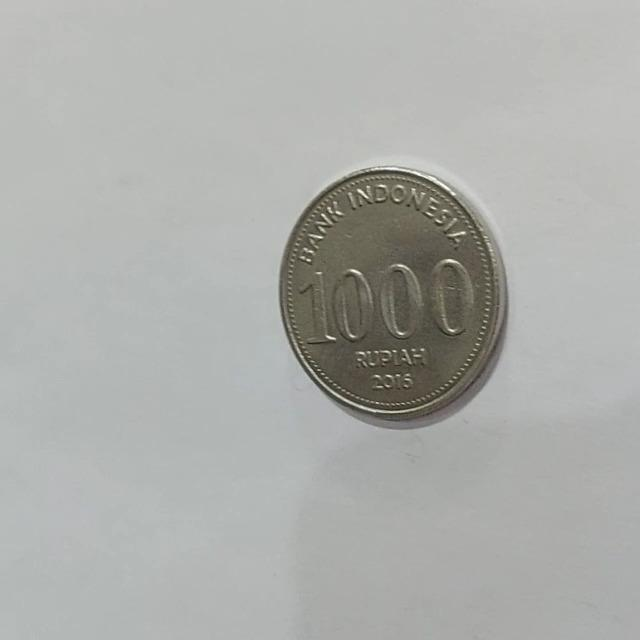Rp100: (276, 162, 507, 427)
